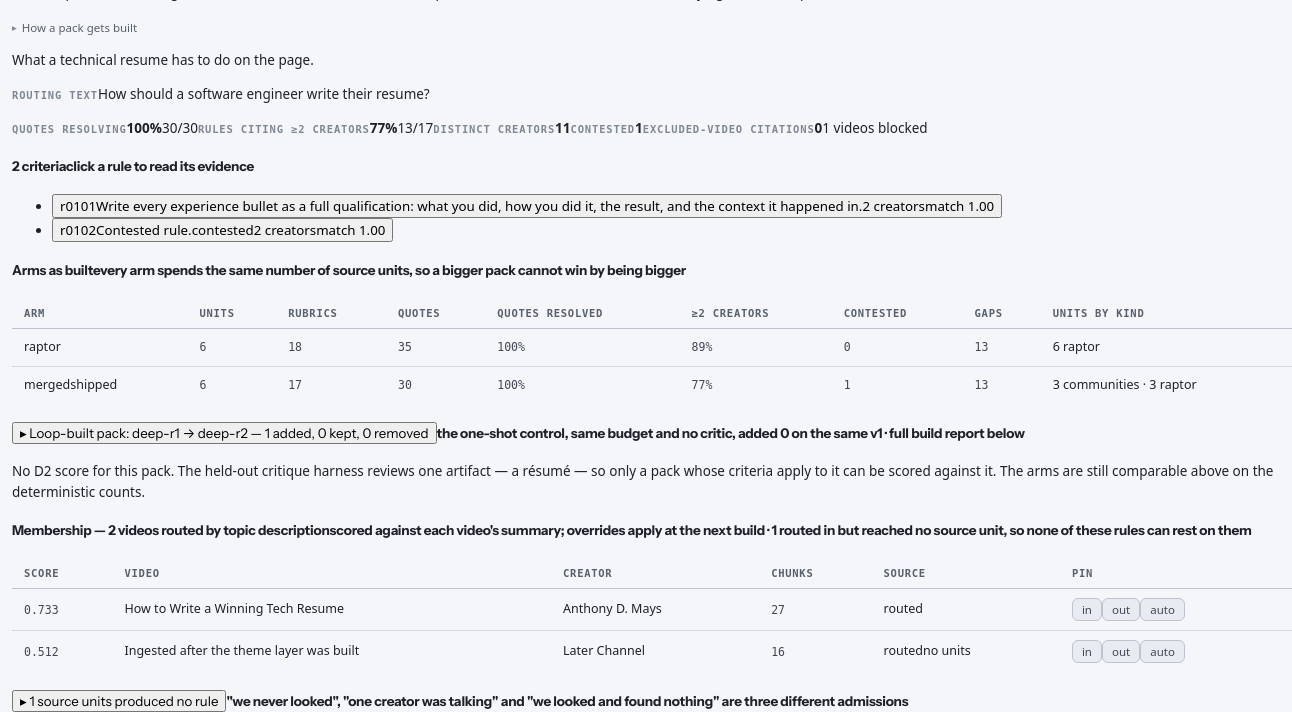
PackPanel › logs the source units that produced no rule
This screenshot has width=1292, height=712.
(page scrolled)
Click the button "▸ 1 source units produced no rule" at coordinates (119, 701), box [12,690,226,711]
(page scrolled)
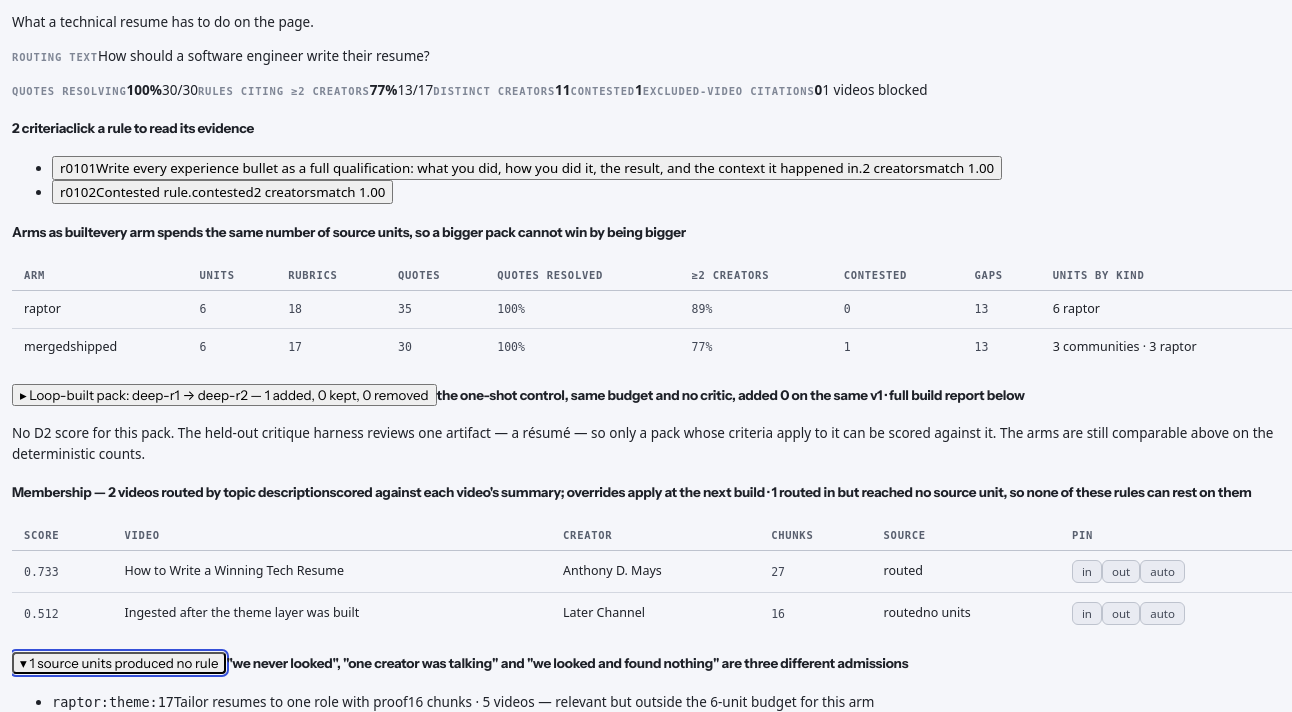
Expected: the text "outside the 6-unit budget" is shown, [555,693,874,711]
